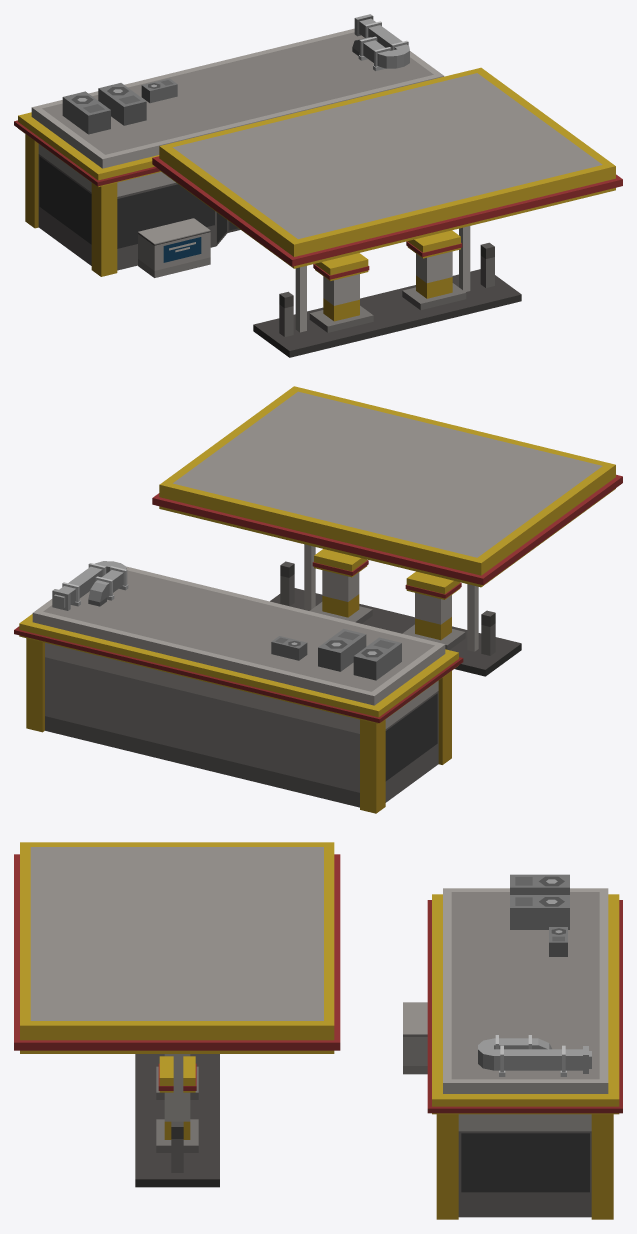
Rendered from station.obj.
3 renders of one model, top to bottom at view 1: azimuth 30°, elevation 25°; view 2: azimuth 150°, elevation 25°; view 3: azimuth 270°, elevation 25°, orthographic. The views are drawn at different scales.
Visible parts, largest first — view 1: ST_Building_PetrolStation_Untitled; view 2: ST_Building_PetrolStation_Untitled; view 3: ST_Building_PetrolStation_Untitled.
Part boxes in pixels (x1,y1,x2,y2): ST_Building_PetrolStation_Untitled: (14,14,622,357); ST_Building_PetrolStation_Untitled: (14,386,622,813); ST_Building_PetrolStation_Untitled: (14,842,622,1219).
Bounding box in the file's own units: 22.47 × 9.41 × 27.75.
Materials: 1 (1 with a texture image).
